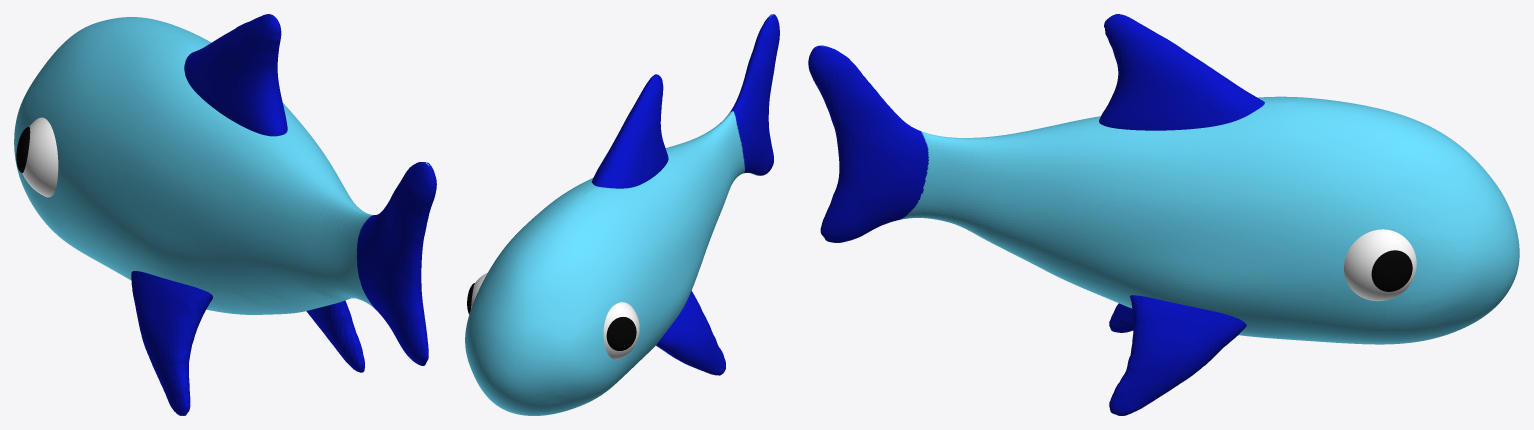
Rendered from petfish_v33_v2.fbx.
3 views of the same model, side by side, from view 1: azimuth 30°, elevation 25°; view 2: azimuth 150°, elevation 25°; view 3: azimuth 270°, elevation 25° (orthographic). The views are drawn at different scales.
Parts seen in each view (by area): view 1: body, eye_L, pupil_L; view 2: body, eye_L, pupil_L; view 3: body, eye_R, pupil_R.
Part boxes in pixels (x1=…): body: x1=14, y1=14, x2=436, y2=415; eye_L: x1=22, y1=117, x2=58, y2=197; pupil_L: x1=16, y1=127, x2=30, y2=172; body: x1=465, y1=14, x2=779, y2=415; eye_L: x1=603, y1=302, x2=639, y2=359; pupil_L: x1=606, y1=317, x2=636, y2=350; body: x1=808, y1=14, x2=1519, y2=415; eye_R: x1=1344, y1=229, x2=1416, y2=301; pupil_R: x1=1371, y1=250, x2=1412, y2=291.
Bounding box in the file's own units: 158 × 258 × 462.
Materials: 1 (1 with a texture image).
